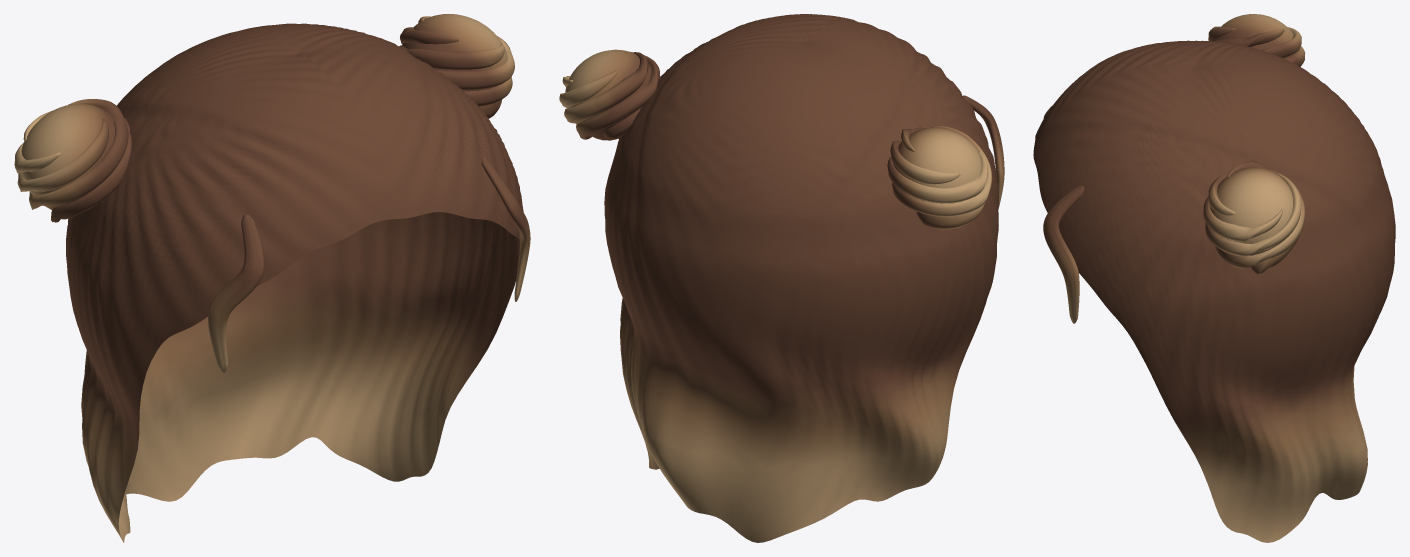
File: space-buns-headband-ombre.glb
3 views of the same model, side by side, from view 1: azimuth 30°, elevation 25°; view 2: azimuth 150°, elevation 25°; view 3: azimuth 270°, elevation 25° (orthographic). The views are drawn at different scales.
Visible parts, largest first — view 1: 226 hair / Hair / chestnut226; view 2: 226 hair / Hair / chestnut226; view 3: 226 hair / Hair / chestnut226.
Boxes of the visible parts, x1=… form: 226 hair / Hair / chestnut226: x1=14, y1=14, x2=530, y2=542; 226 hair / Hair / chestnut226: x1=559, y1=14, x2=1004, y2=542; 226 hair / Hair / chestnut226: x1=1033, y1=14, x2=1395, y2=542.
Size of the model in its own units: 0.977 by 0.9707 by 0.7316.
1 material, 1 textured.
